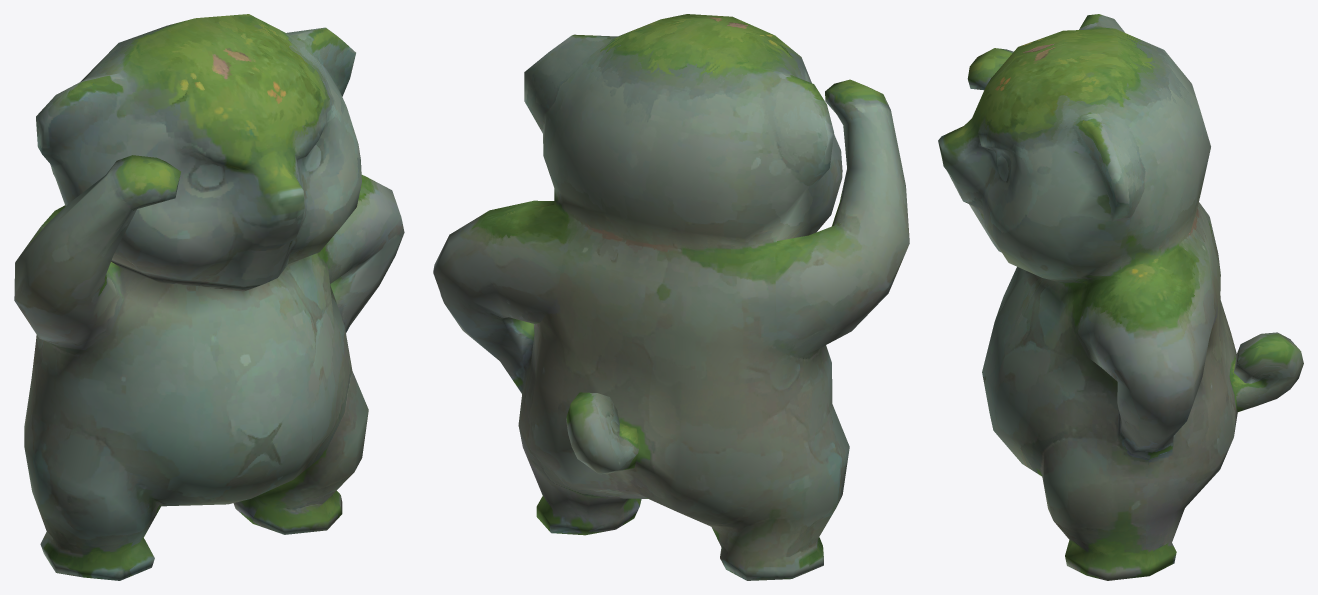
The model's file is Homeworld_Exterior_Ly_Thing_Prop_PalmcivetStatue_01_Vo.fbx.
3 views of the same model, side by side, from view 1: azimuth 30°, elevation 25°; view 2: azimuth 150°, elevation 25°; view 3: azimuth 270°, elevation 25° (orthographic). The views are drawn at different scales.
Parts seen in each view (by area): view 1: Area_Dq_Prop_Common_Catstatue_03_Vo; view 2: Area_Dq_Prop_Common_Catstatue_03_Vo; view 3: Area_Dq_Prop_Common_Catstatue_03_Vo.
Boxes of the visible parts, x1=… form: Area_Dq_Prop_Common_Catstatue_03_Vo: x1=14, y1=14, x2=404, y2=580; Area_Dq_Prop_Common_Catstatue_03_Vo: x1=433, y1=14, x2=909, y2=580; Area_Dq_Prop_Common_Catstatue_03_Vo: x1=938, y1=14, x2=1303, y2=580.
Size of the model in its own units: 0.912 by 1.05 by 0.7317.
1 material, 1 textured.
